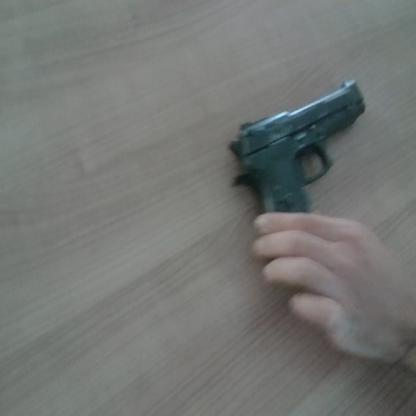handgun: (224, 77, 402, 308)
